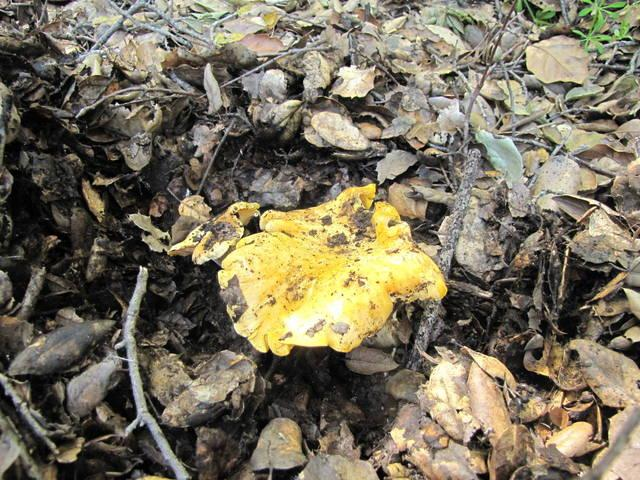edible_mushroom: (195, 184, 445, 357)
